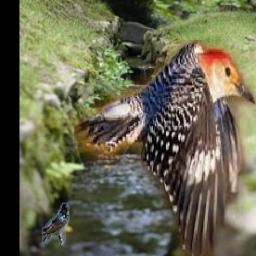Swallow: (42, 204, 70, 246)
Woodpecker: (73, 40, 256, 256)
